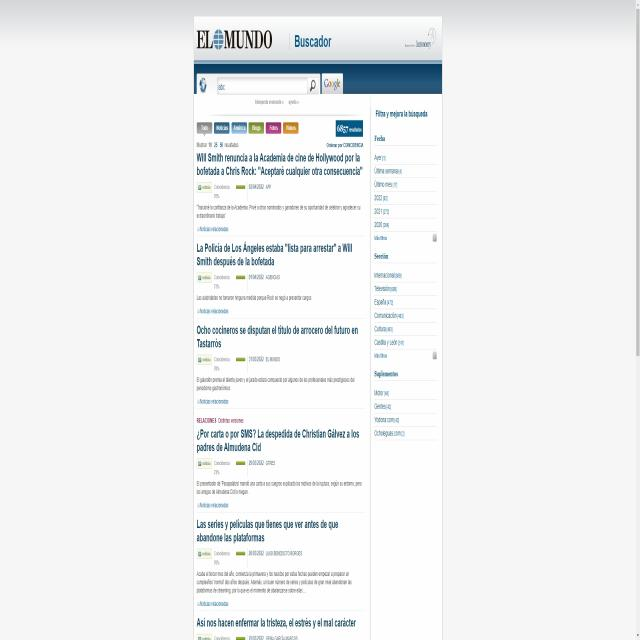search: (216, 73, 320, 94)
side-panel: (372, 99, 438, 443)
tab-bar: (197, 120, 302, 134)
